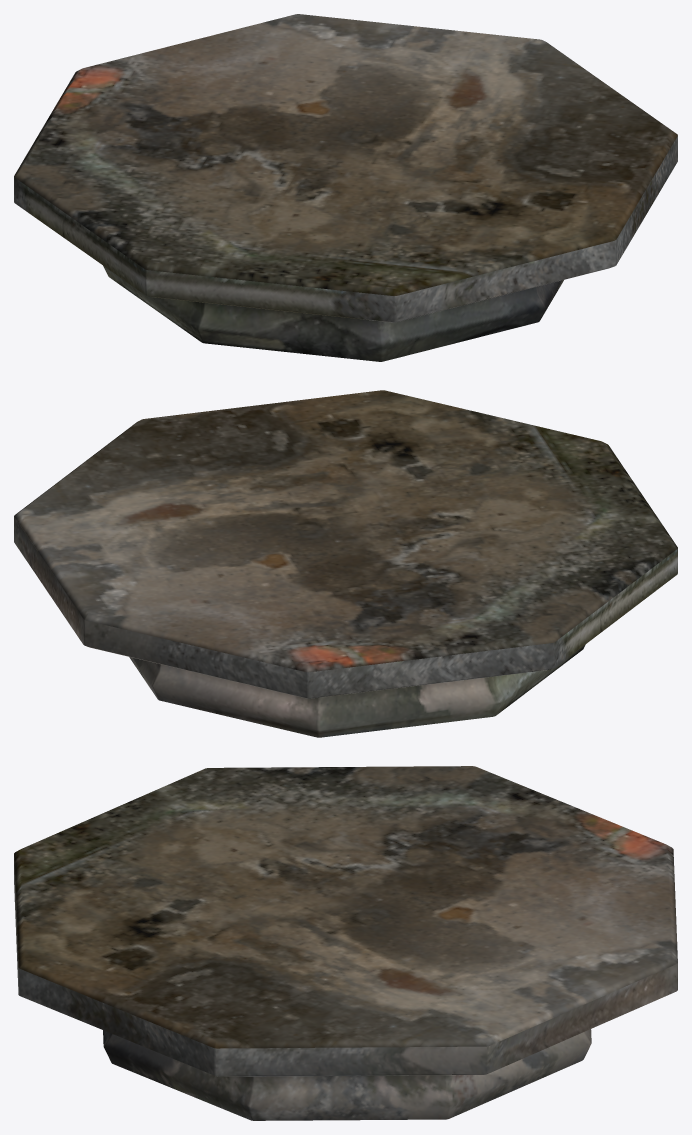
The model's file is sm_ChapelColumnTop_01_02.fbx.
3 renders of one model, top to bottom at view 1: azimuth 30°, elevation 25°; view 2: azimuth 150°, elevation 25°; view 3: azimuth 270°, elevation 25°, orthographic. The views are drawn at different scales.
Parts seen in each view (by area): view 1: sm_ChapelColumnTop_01_02_LOD0; view 2: sm_ChapelColumnTop_01_02_LOD0; view 3: sm_ChapelColumnTop_01_02_LOD0.
Part boxes in pixels (x1,y1,x2,y2): sm_ChapelColumnTop_01_02_LOD0: (14,14,677,361); sm_ChapelColumnTop_01_02_LOD0: (14,390,677,737); sm_ChapelColumnTop_01_02_LOD0: (14,766,677,1120).
Size of the model in its own units: 117 by 117 by 22.68.
